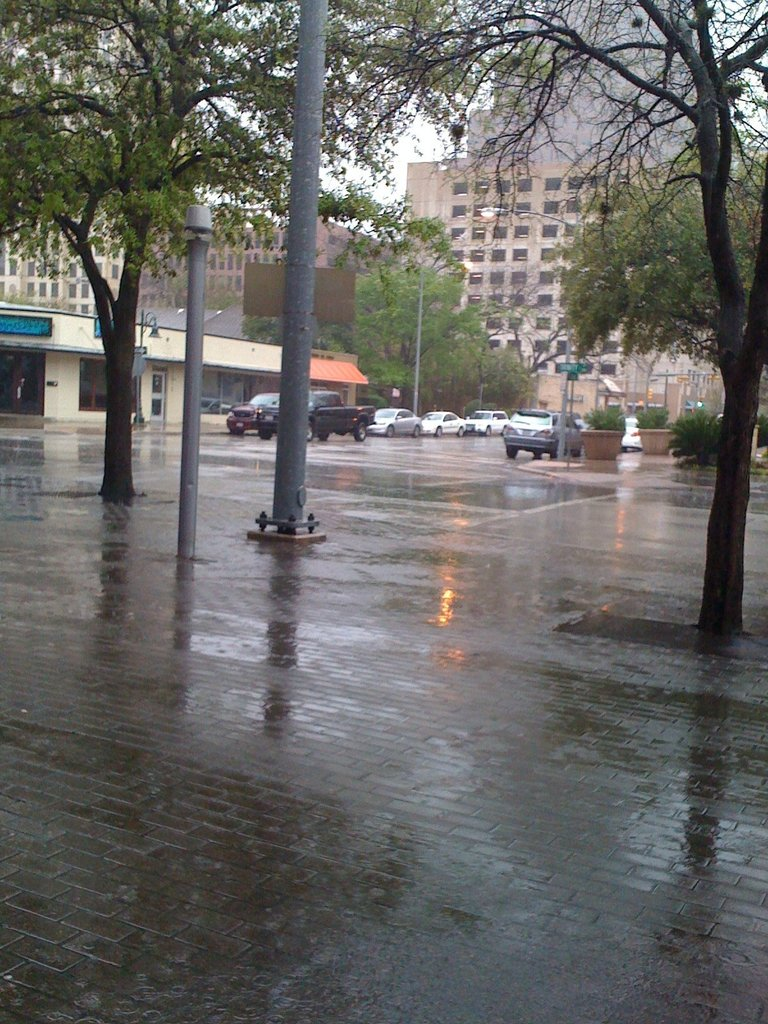Tree: (0, 0, 768, 635)
